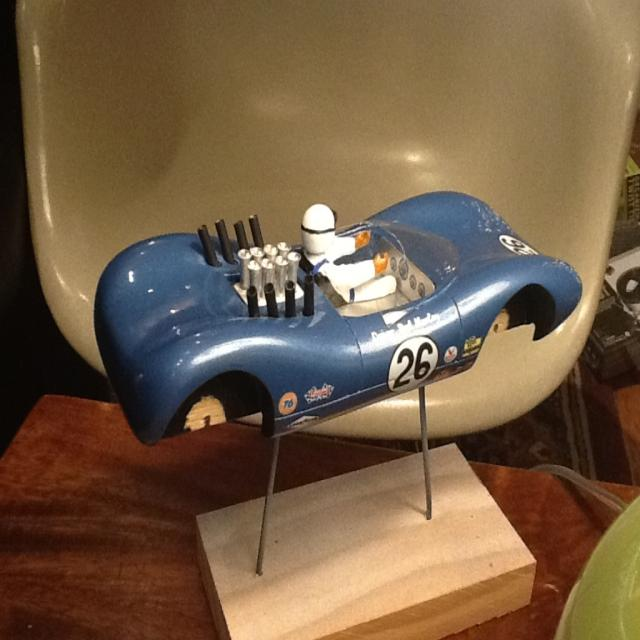car: (90, 183, 583, 435)
